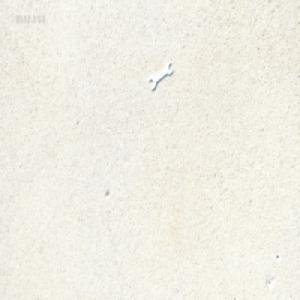Wrench: (149, 61, 172, 91)
